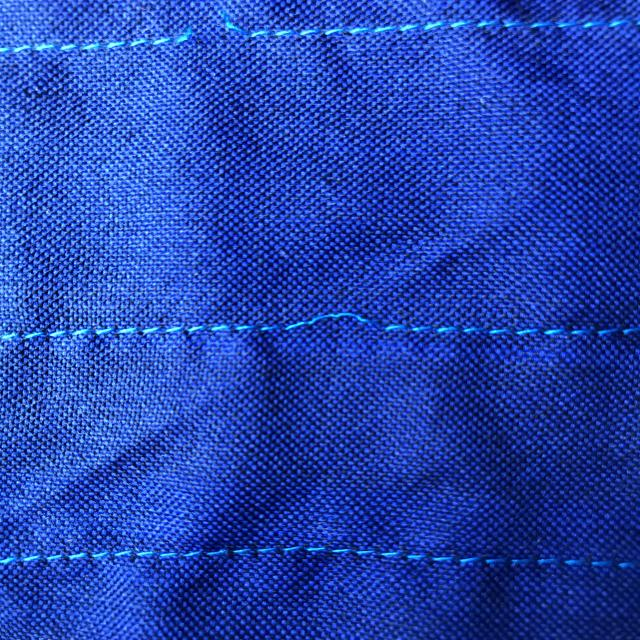broken: (134, 17, 288, 56)
good: (242, 530, 416, 577)
skip: (264, 285, 402, 361)
